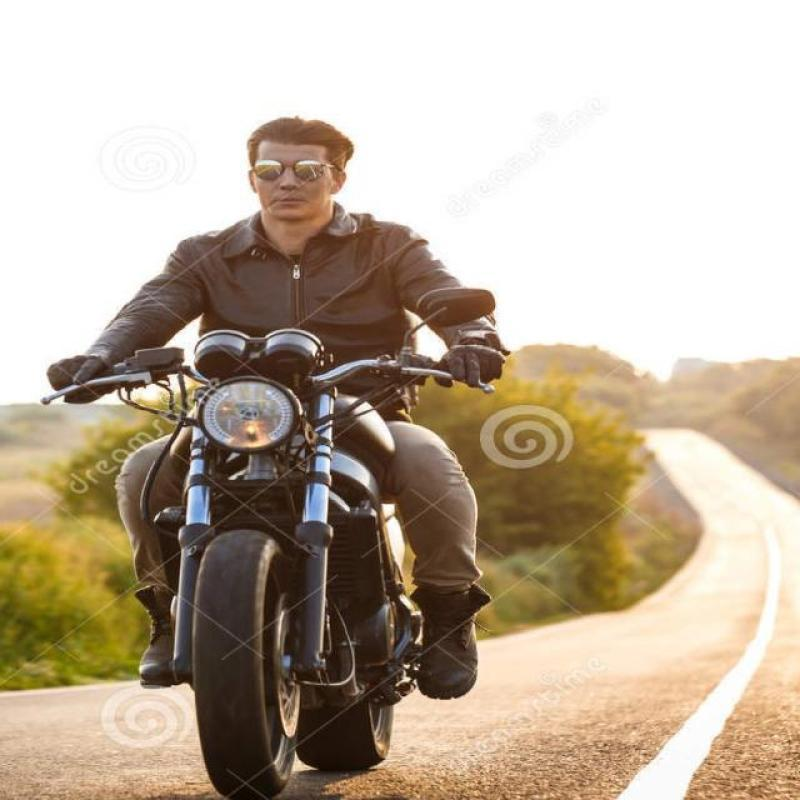nohelmet: (227, 96, 421, 236)
